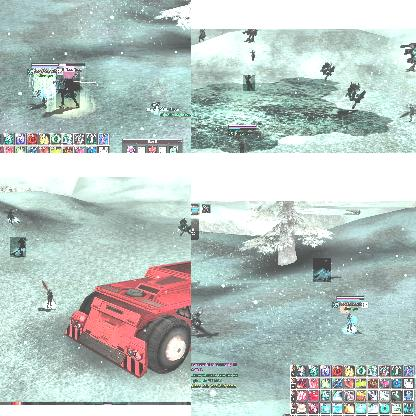caliana: (56, 72, 80, 108), (191, 308, 209, 336), (313, 258, 331, 282), (10, 237, 26, 257), (400, 103, 416, 122), (5, 210, 21, 224), (243, 75, 255, 91), (249, 50, 255, 62)
